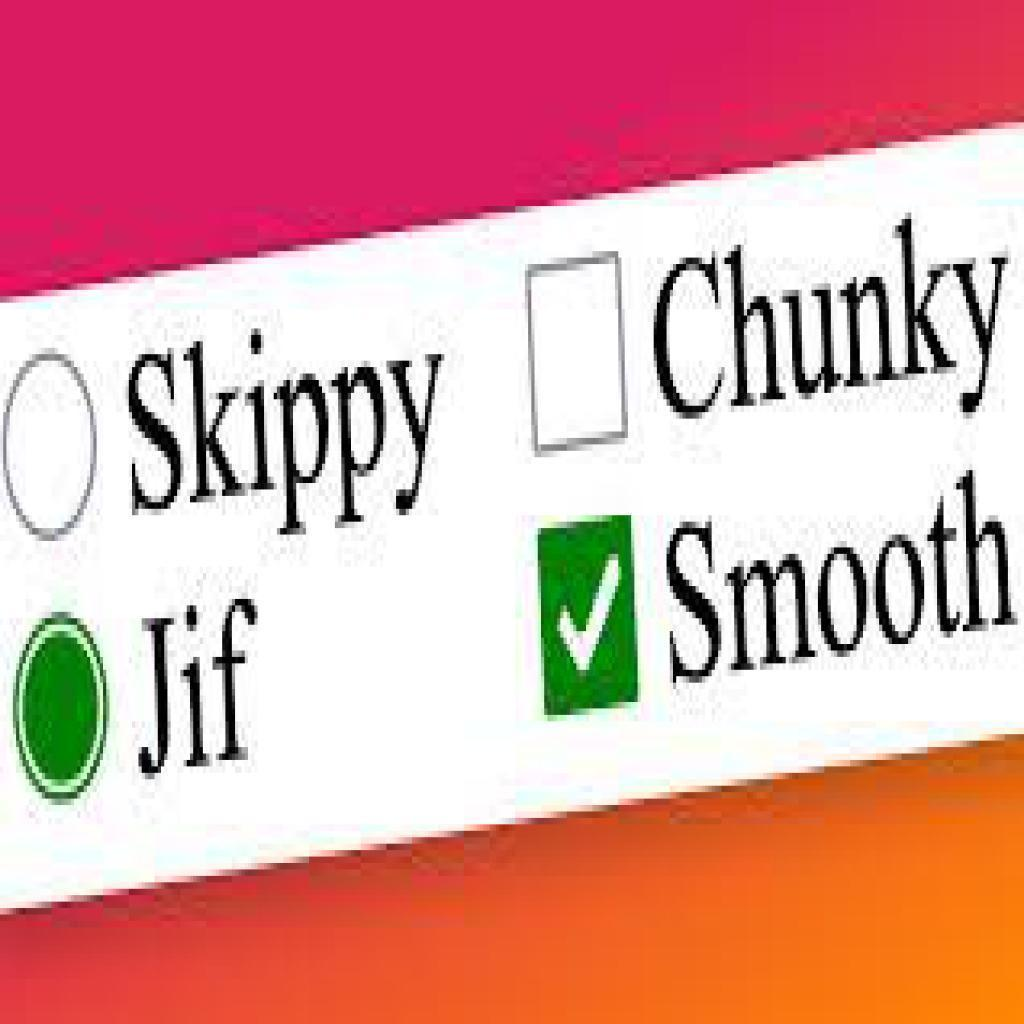checkbox: (536, 515, 641, 722), (525, 251, 629, 455)
radio: (9, 609, 110, 807), (2, 347, 97, 543)
